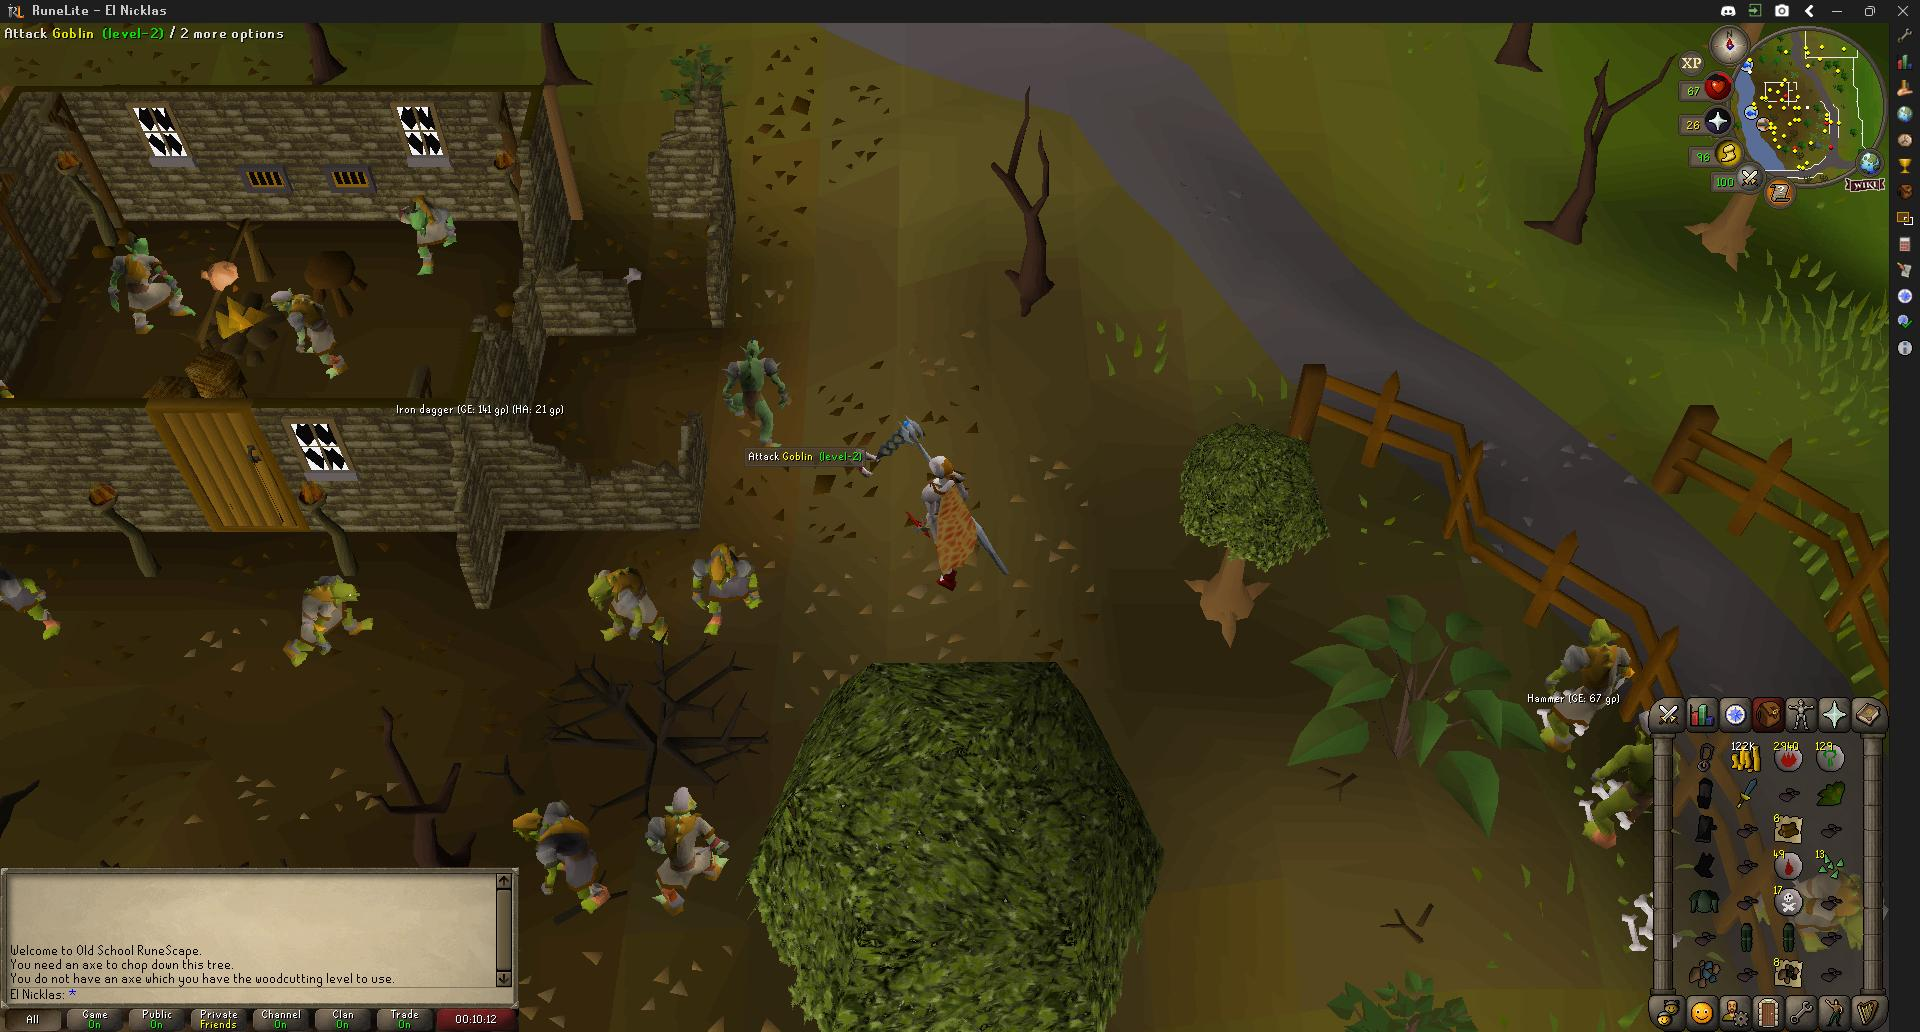Player: (910, 453, 985, 592)
goblin: (520, 793, 611, 913), (653, 781, 731, 913), (1539, 637, 1633, 745), (1578, 732, 1659, 848), (106, 236, 195, 335), (282, 579, 373, 664), (721, 339, 787, 450), (272, 287, 348, 379), (586, 565, 659, 649), (692, 548, 764, 633), (400, 193, 459, 276), (0, 572, 63, 636)
